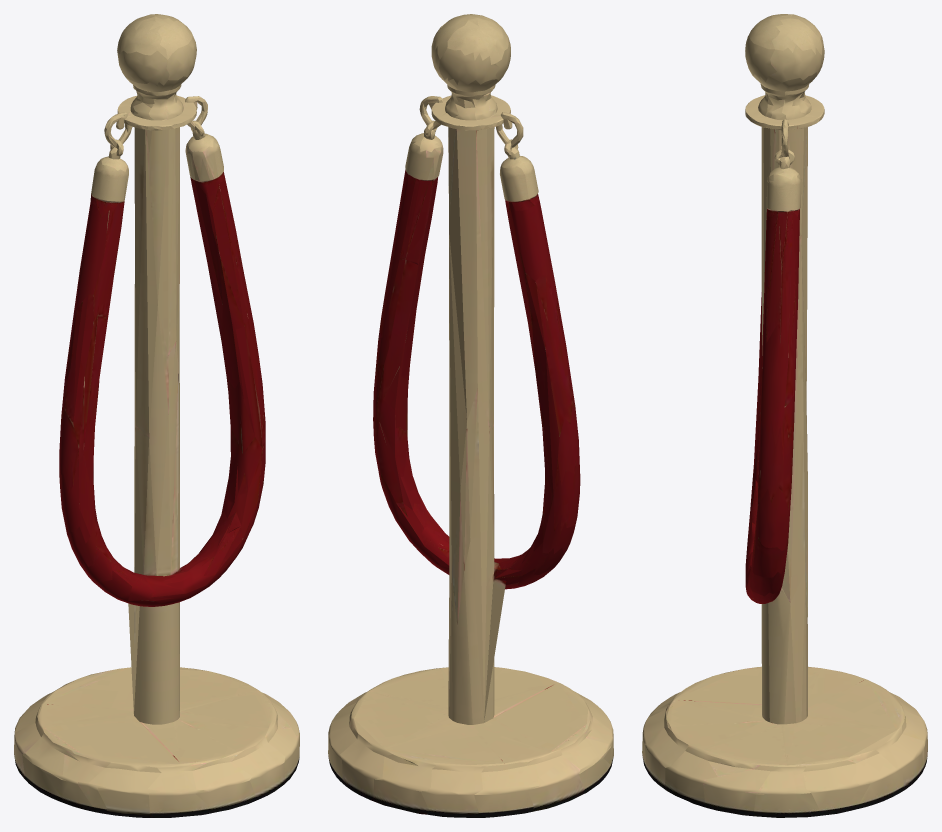
Rendered from brass_queue_post.glb.
3 views of the same model, side by side, from view 1: azimuth 30°, elevation 25°; view 2: azimuth 150°, elevation 25°; view 3: azimuth 270°, elevation 25° (orthographic).
Parts seen in each view (by area): view 1: Mesh_0; view 2: Mesh_0; view 3: Mesh_0.
Boxes of the visible parts, x1,y1,x2,y2 form: Mesh_0: (14,14,299,817); Mesh_0: (328,14,613,817); Mesh_0: (642,14,927,817).
Size of the model in its own units: 0.3497 by 1 by 0.3499.
1 material, 1 textured.
